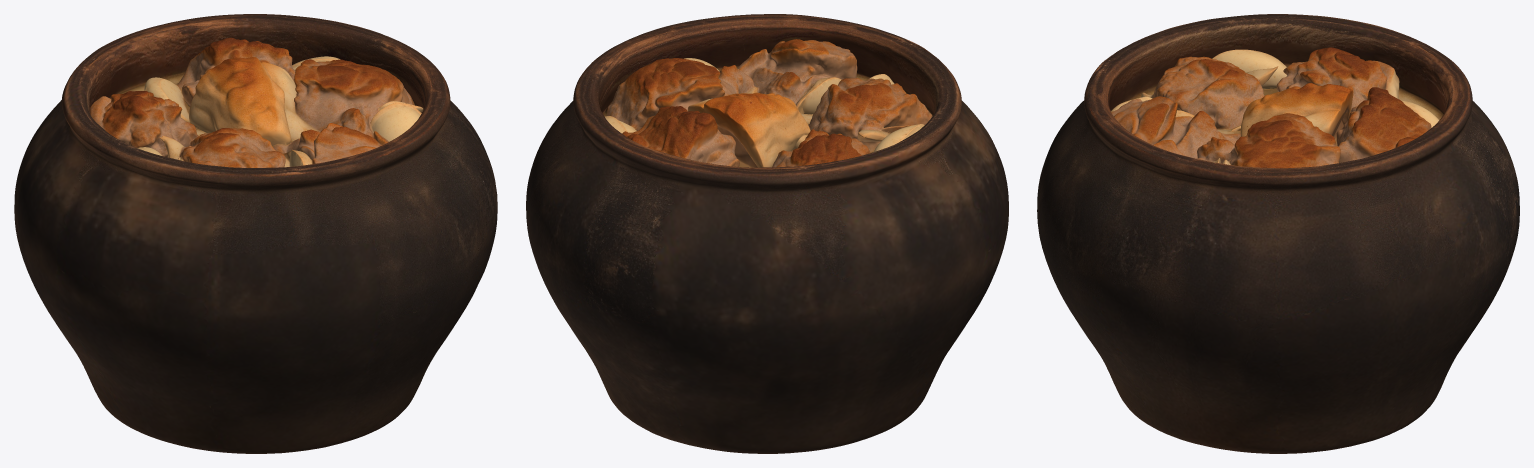
Rendered from food-roast-meat-v1.glb.
3 renders of one model, left to right at view 1: azimuth 30°, elevation 25°; view 2: azimuth 150°, elevation 25°; view 3: azimuth 270°, elevation 25°, orthographic.
Bounding box in the file's own units: 1.9 × 1.34 × 1.9.
Materials: 1 (1 with a texture image).
